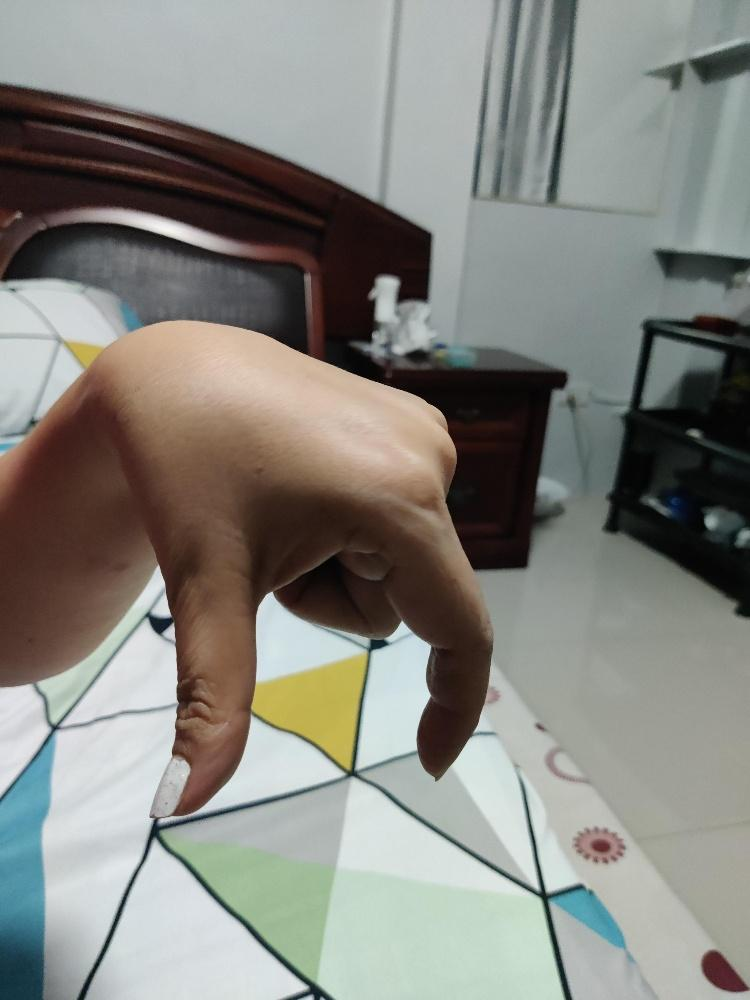q: (145, 315, 495, 823)
